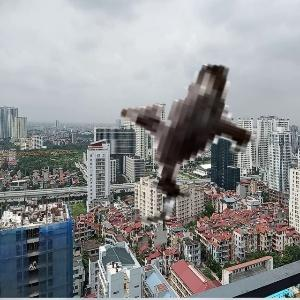drone: (65, 8, 293, 236)
